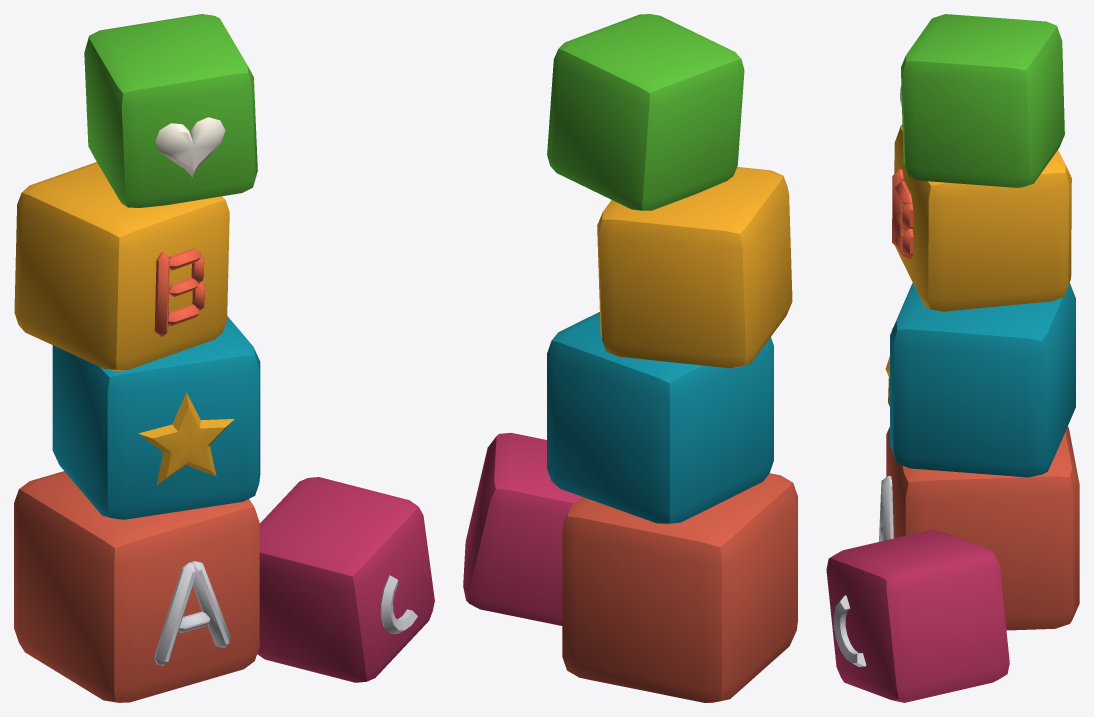
File: hz_blocks.glb
3 renders of one model, left to right at view 1: azimuth 30°, elevation 25°; view 2: azimuth 150°, elevation 25°; view 3: azimuth 270°, elevation 25°, orthographic. The views are drawn at different scales.
Visible parts, largest first — view 1: hz_blocks; view 2: hz_blocks; view 3: hz_blocks.
Part boxes in pixels (x1,y1,x2,y2): hz_blocks: [14, 14, 434, 702]; hz_blocks: [463, 14, 797, 702]; hz_blocks: [826, 14, 1079, 702].
Bounding box in the file's own units: 0.714 × 1.21 × 0.4693.
